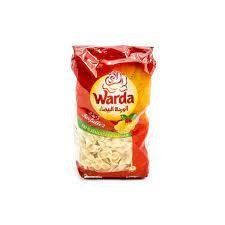plume: (72, 47, 156, 178)
